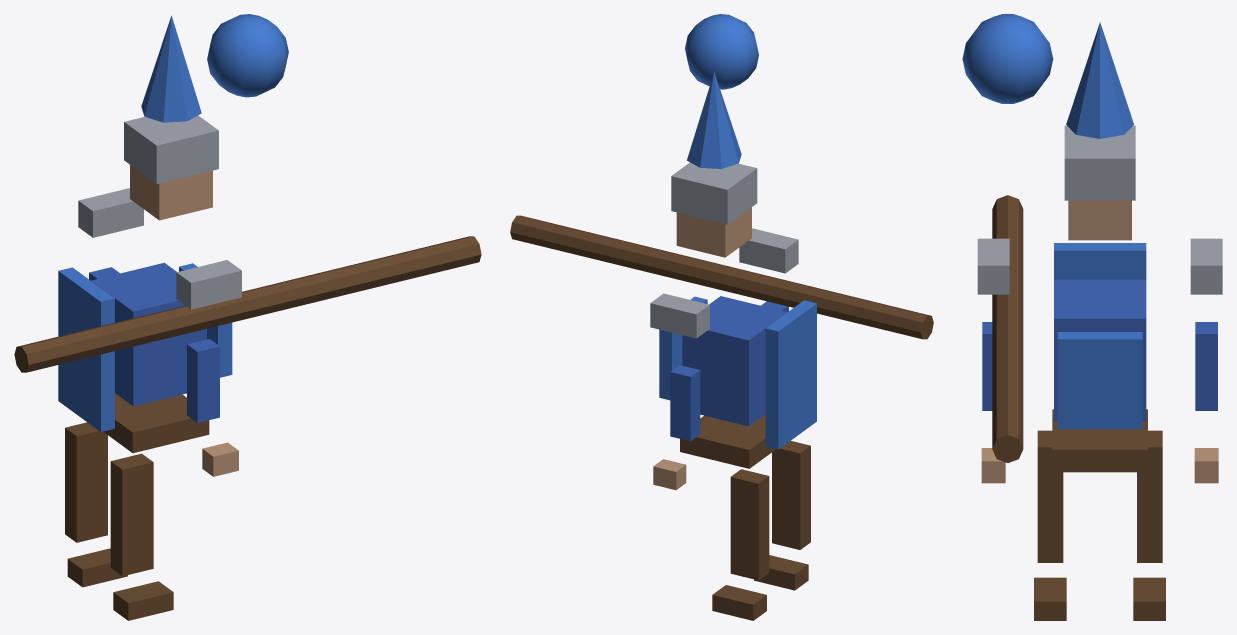
The model's file is vanguard_battle_cleric.glb.
3 views of the same model, side by side, from view 1: azimuth 30°, elevation 25°; view 2: azimuth 150°, elevation 25°; view 3: azimuth 270°, elevation 25° (orthographic). The views are drawn at different scales.
Parts seen in each view (by area): view 1: vanguard_battle_cleric; view 2: vanguard_battle_cleric; view 3: vanguard_battle_cleric.
Part boxes in pixels (x1,y1,x2,y2): vanguard_battle_cleric: (14,14,481,620); vanguard_battle_cleric: (510,14,933,620); vanguard_battle_cleric: (962,14,1222,620).
Size of the model in its own units: 40 by 49.45 by 18.32.
